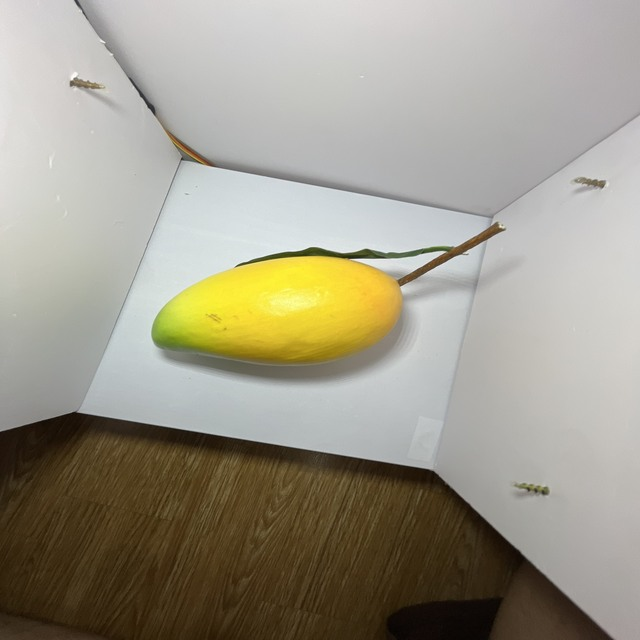Xoai: (141, 250, 414, 370)
